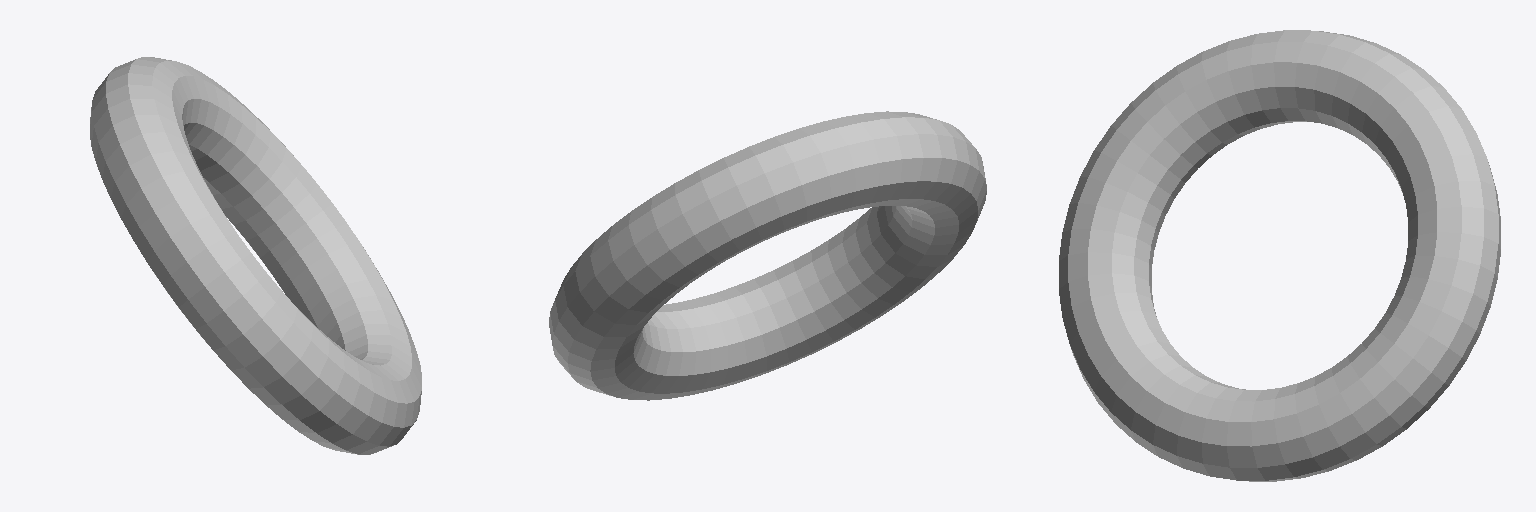
The model's file is donut.obj.
3 views of the same model, side by side, from view 1: azimuth 30°, elevation 25°; view 2: azimuth 150°, elevation 25°; view 3: azimuth 270°, elevation 25° (orthographic).
Parts seen in each view (by area): view 1: Torus; view 2: Torus; view 3: Torus.
Boxes of the visible parts, x1,y1,x2,y2 form: Torus: [90, 57, 421, 454]; Torus: [549, 111, 986, 400]; Torus: [1059, 30, 1500, 481].
Bounding box in the file's own units: 3.15 × 3.27 × 3.78.